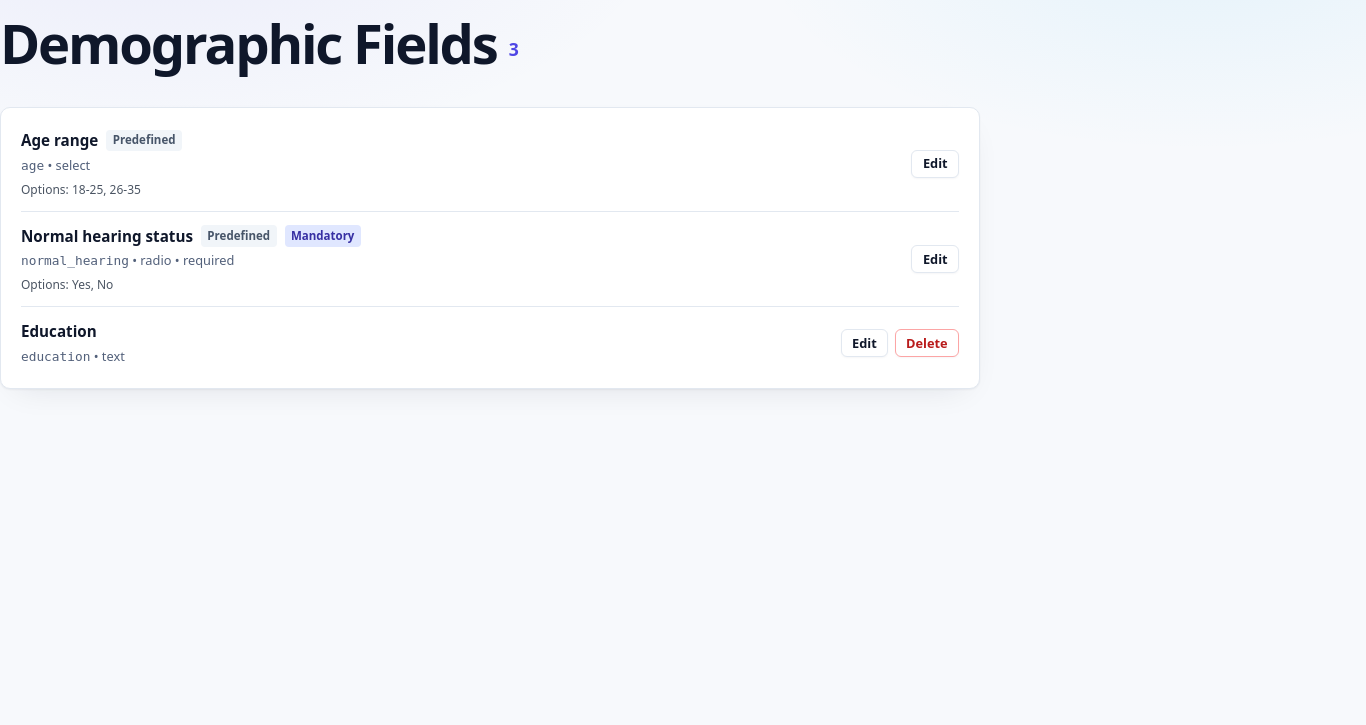
Scenario: DemographicFieldsPage Inline CRUD UI › disables required checkbox and forces it checked for mandatory normal_hearing field
Expected: the text "Normal hearing status" is shown, [21, 224, 193, 248]
// Click Edit on Normal hearing status (id 2)
Click the button "Edit" in the row of "normal_hearing" at (935, 259), box [912, 245, 959, 273]
(page scrolled)
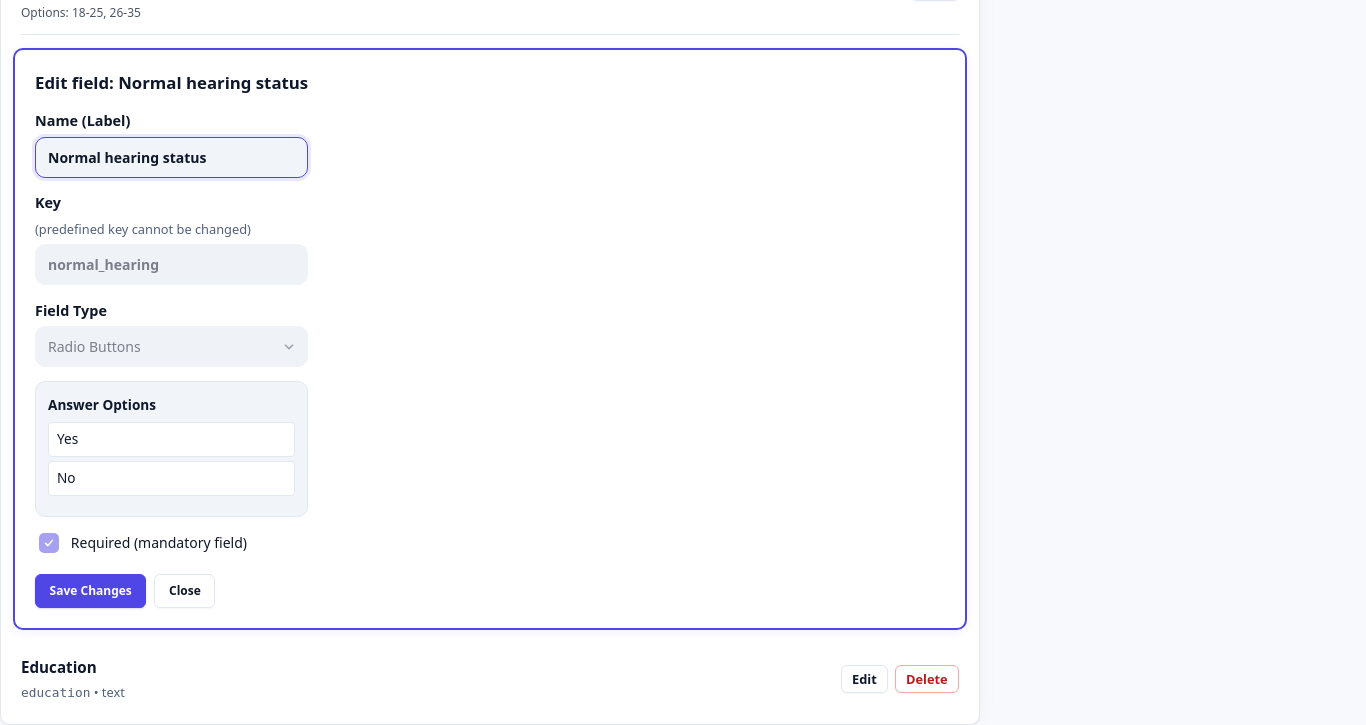
Expected: the checkbox labelled "Required (mandatory field)" is checked, [39, 533, 59, 553]
Expected: the checkbox labelled "Required (mandatory field)" is disabled, [39, 533, 59, 553]
